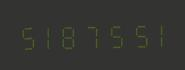eight: (59, 20, 79, 50)
five: (101, 19, 121, 49), (122, 19, 142, 49), (17, 21, 37, 50)
one: (38, 20, 58, 50), (143, 19, 163, 48)
seven: (80, 20, 100, 49)
